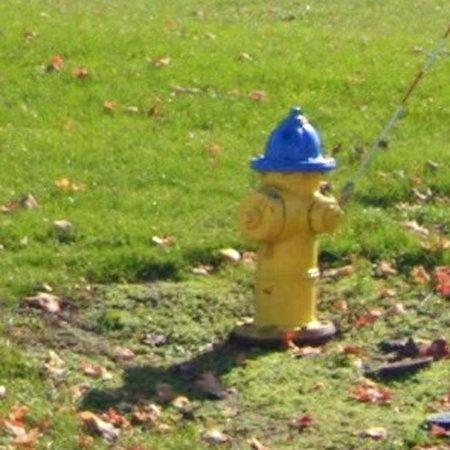a fire hydrant: (231, 107, 343, 348)
